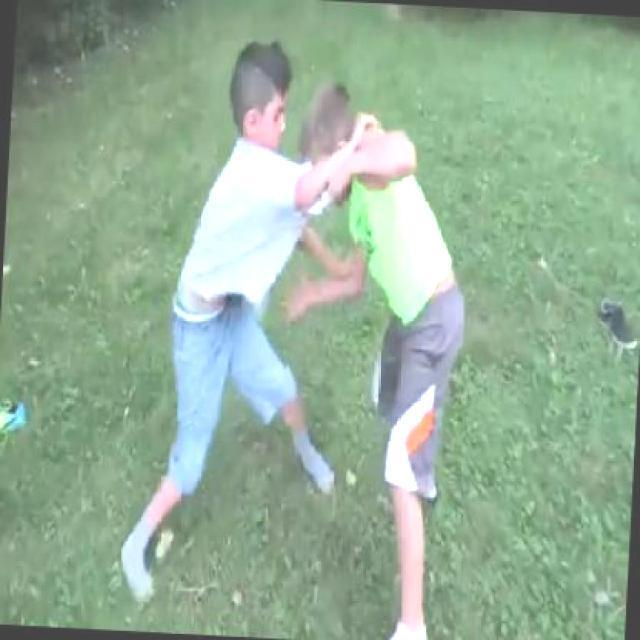fight: (122, 31, 480, 638)
